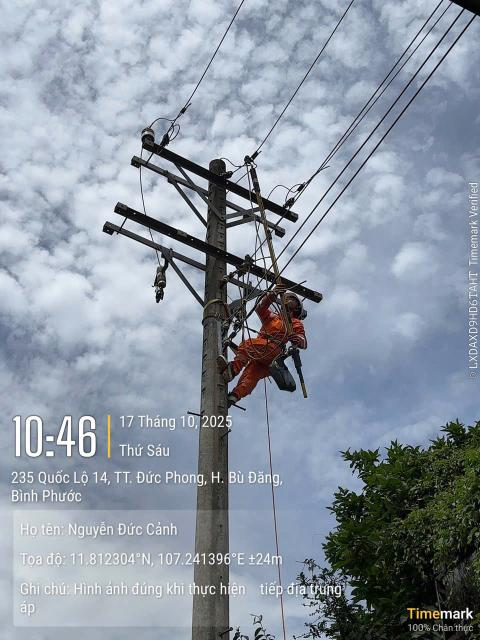gloves: (289, 332, 308, 358), (270, 284, 285, 302)
helmet: (287, 289, 308, 320)
shoes: (212, 353, 238, 386), (217, 391, 244, 417)
